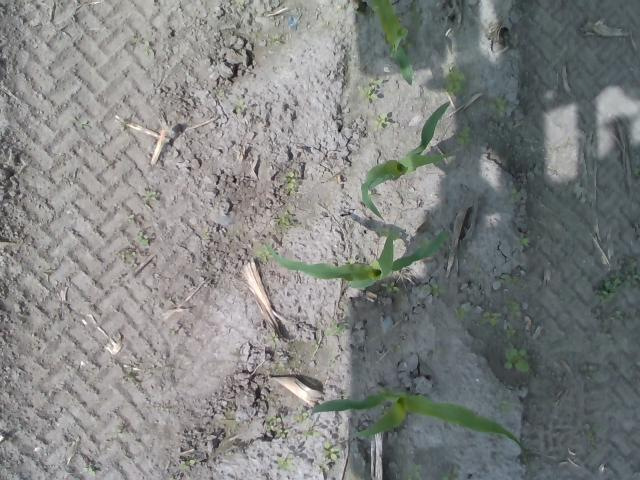Maize: (311, 382, 528, 465), (360, 99, 456, 223), (266, 228, 448, 288), (365, 1, 416, 83)
Weeds: (598, 276, 630, 304), (442, 63, 466, 97), (502, 344, 530, 372), (264, 414, 288, 438), (360, 78, 384, 101), (325, 318, 351, 338), (626, 256, 639, 286), (480, 310, 500, 328), (130, 232, 152, 248), (324, 440, 339, 463), (456, 125, 472, 144), (285, 170, 297, 194), (405, 462, 421, 480), (376, 110, 391, 128), (382, 282, 401, 296), (414, 5, 426, 26), (504, 329, 516, 348), (508, 303, 522, 319), (178, 458, 196, 470), (494, 97, 508, 112), (278, 214, 292, 226), (144, 190, 160, 200), (276, 458, 290, 469), (84, 466, 96, 477), (499, 400, 512, 410), (454, 308, 464, 320), (518, 238, 530, 248), (296, 411, 308, 421), (304, 430, 320, 437), (269, 331, 279, 342), (433, 284, 441, 297), (392, 343, 402, 353), (441, 474, 457, 480), (510, 192, 522, 200), (271, 36, 280, 46), (256, 250, 268, 257), (79, 120, 87, 129)
